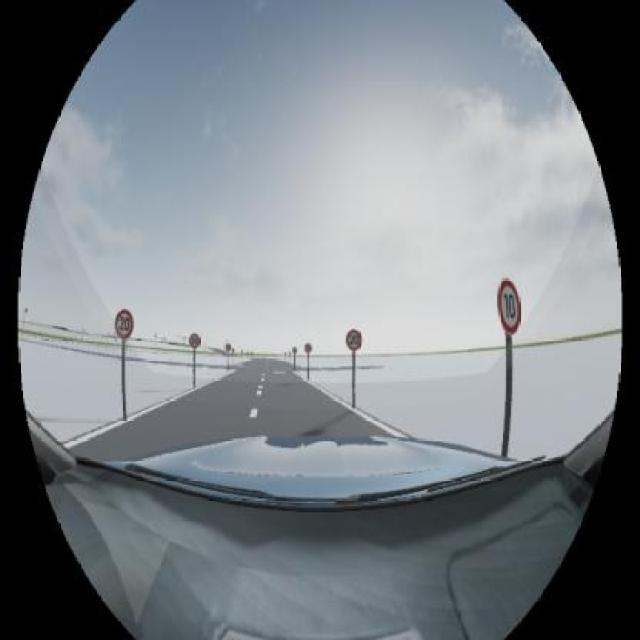forb_speed_over_10: (497, 276, 521, 335)
forb_speed_over_20: (115, 309, 133, 337), (346, 329, 362, 351)
